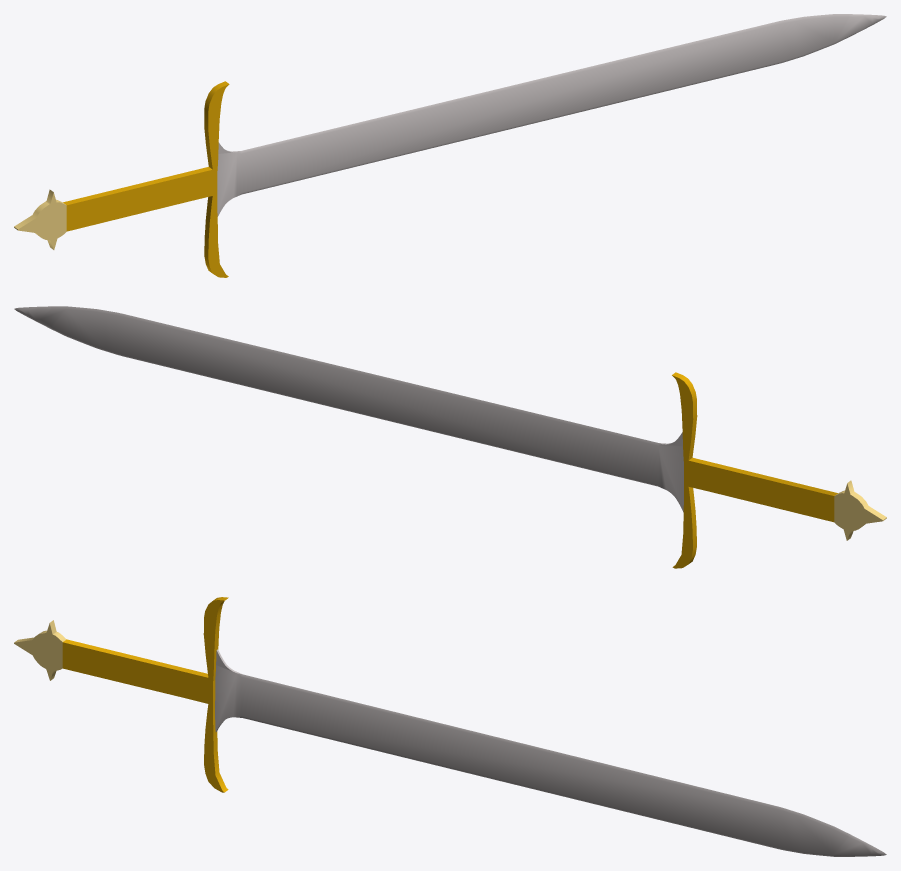
File: Sword.fbx
3 renders of one model, top to bottom at view 1: azimuth 30°, elevation 25°; view 2: azimuth 150°, elevation 25°; view 3: azimuth 330°, elevation 25°, orthographic.
Visible parts, largest first — view 1: Plane; view 2: Plane; view 3: Plane.
Part boxes in pixels (x1,y1,x2,y2): Plane: (14,14,886,277); Plane: (14,306,886,568); Plane: (14,597,886,856).
Size of the model in its own units: 1126 by 238 by 8.97.
